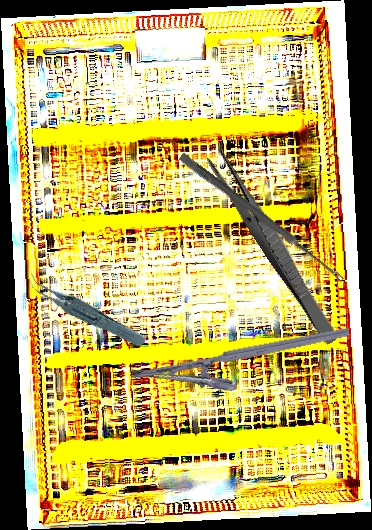Dressing Forceps: (203, 148, 345, 347)
Needle Holder: (129, 326, 356, 410)
Surgical Spoon: (177, 152, 347, 284)
Tissue Forceps: (23, 250, 149, 369)
